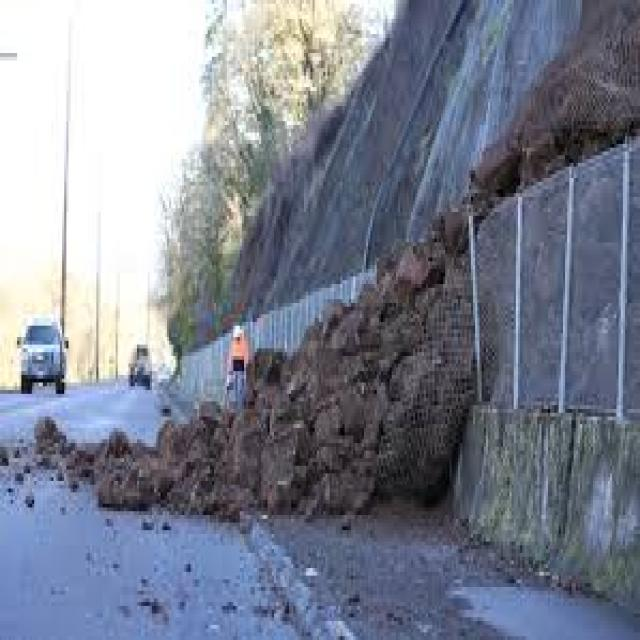landSliding: (92, 280, 493, 583)
